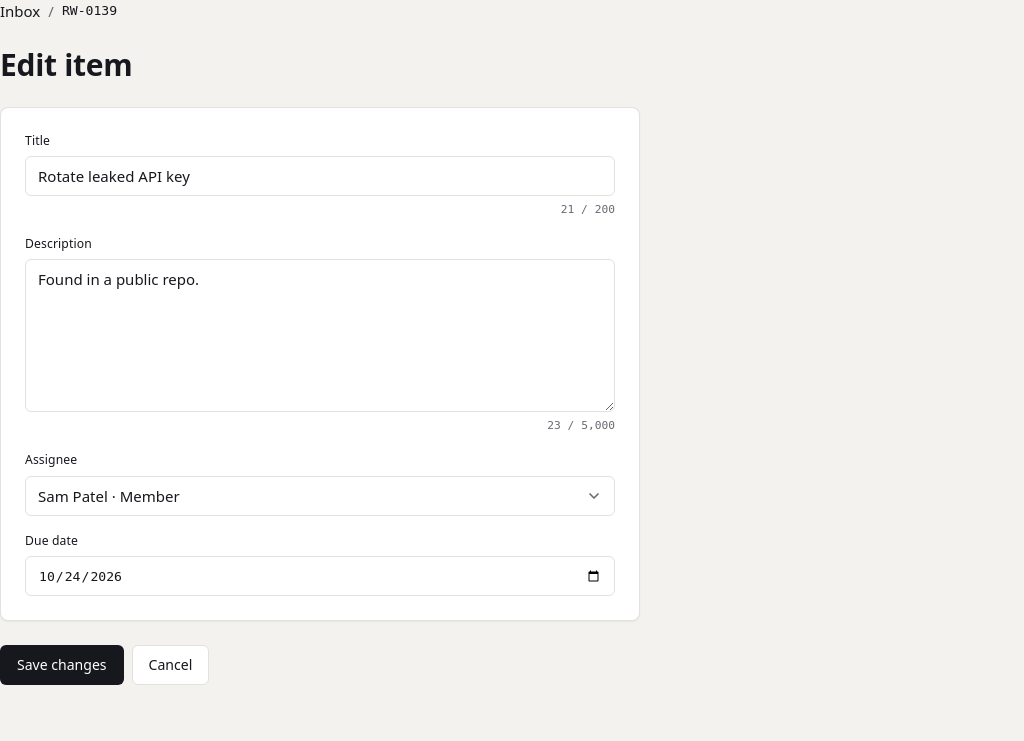
Test: item form › "Reload latest" asks before replacing typed changes, and keeps them on cancel
Replace the text in the field labelled "Title" with "My edit" at (320, 176), box [25,156,615,196]
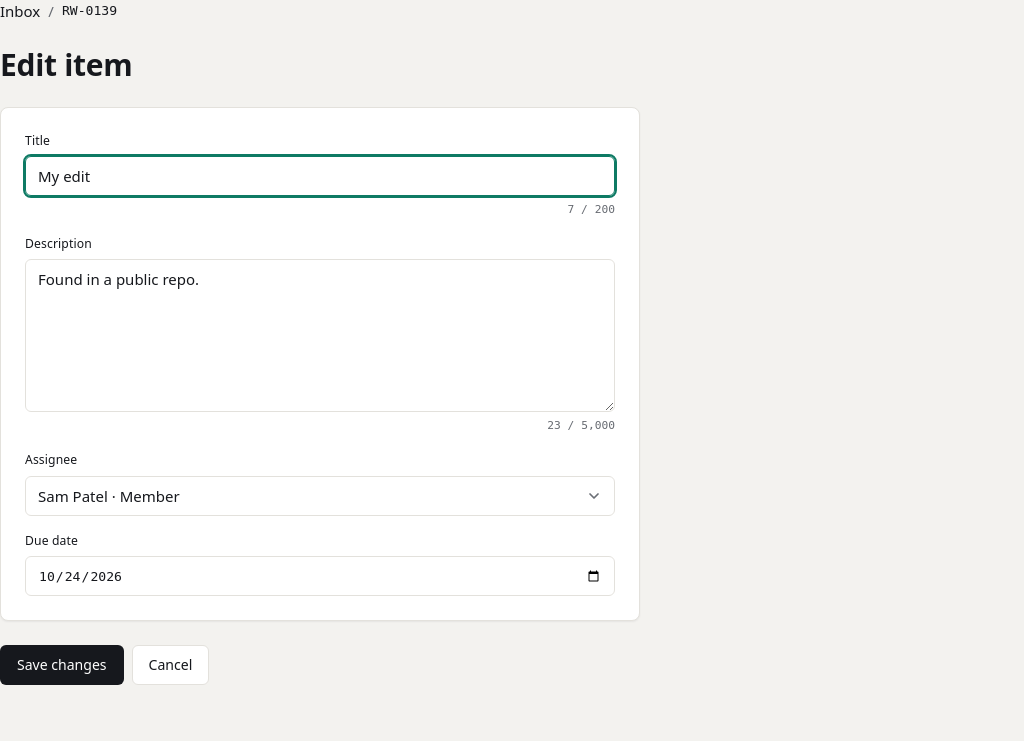
Click the button "Save changes".
click(62, 665)  # box [0,645,124,685]
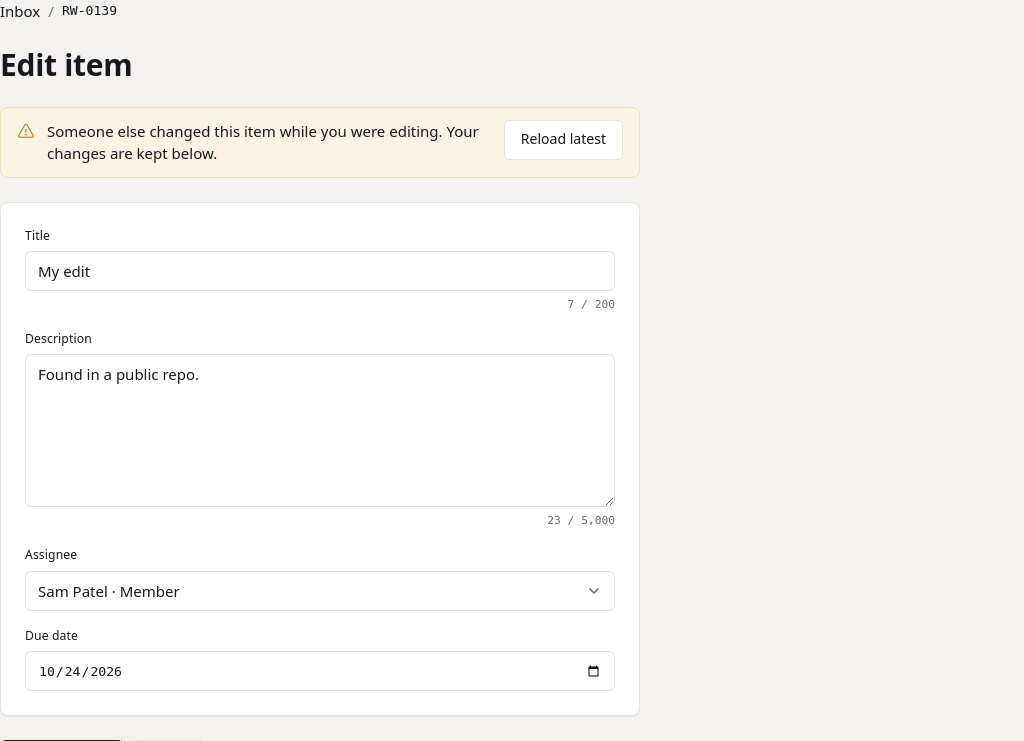
Click the button "Reload latest".
click(563, 140)  # box [504,120,623,160]
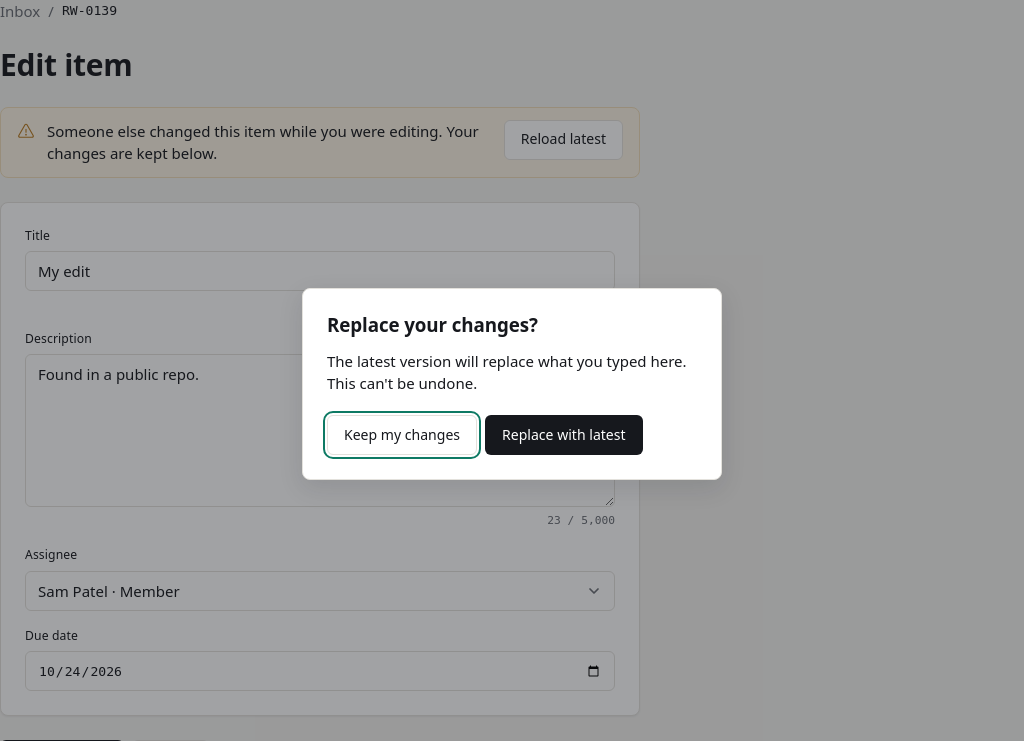
Click the button "Keep my changes".
click(402, 435)  # box [327,415,477,455]
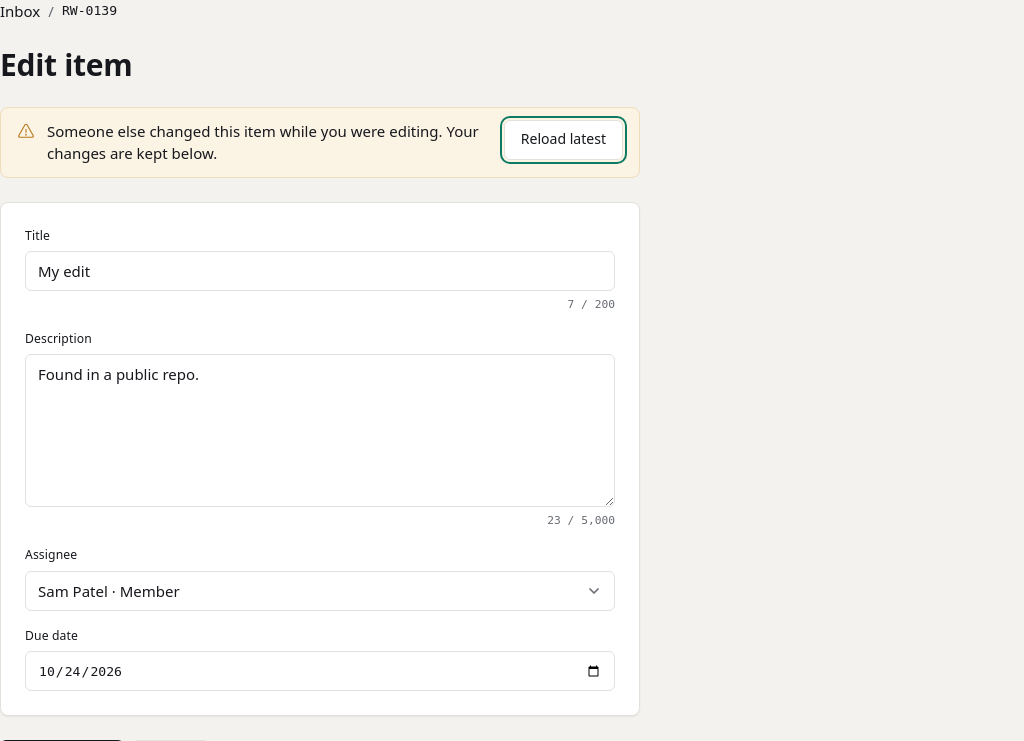
Expected: the heading "Replace your changes?" is gone
Click the button "Reload latest".
click(563, 140)  # box [504,120,623,160]
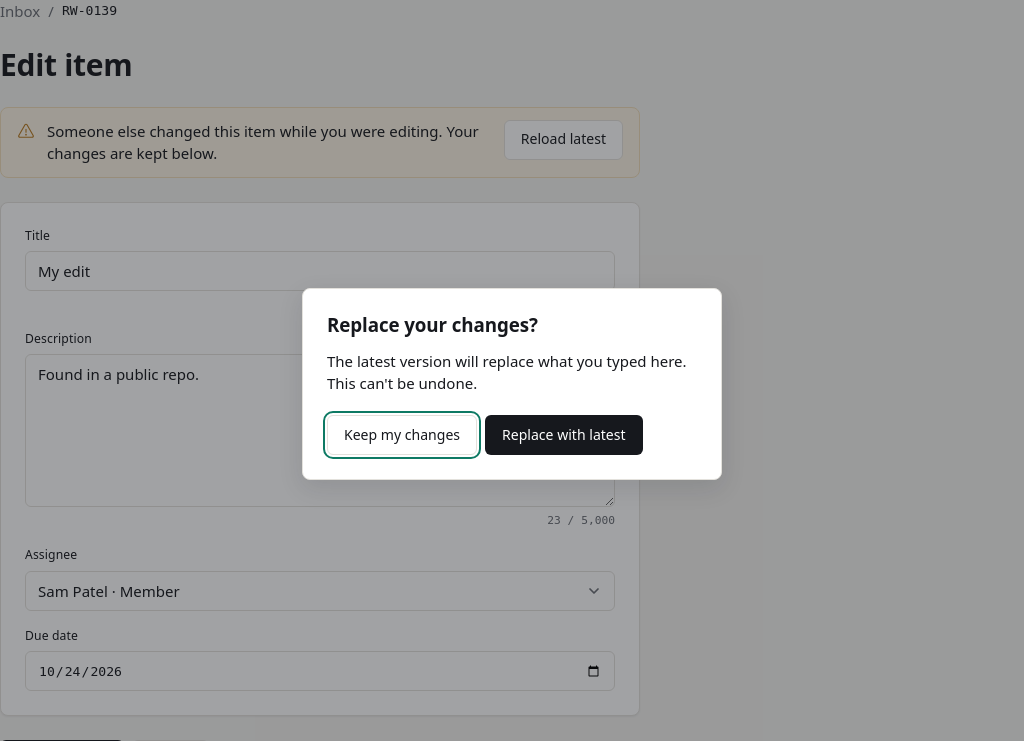
Click the button "Replace with latest".
click(564, 435)  # box [485,415,643,455]
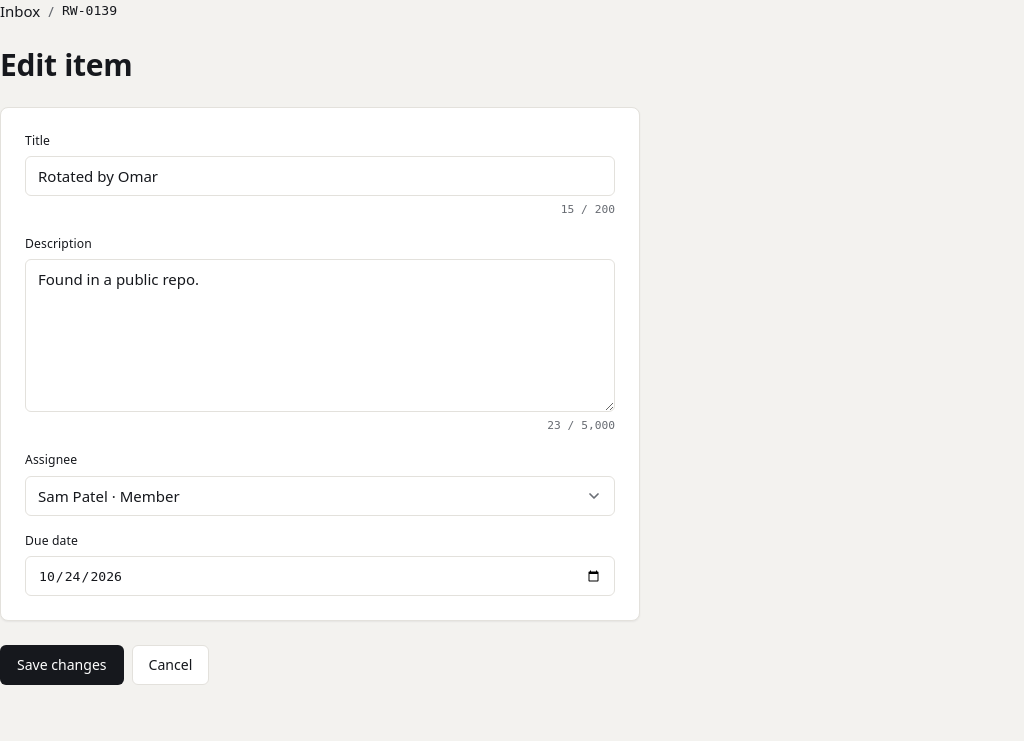
Expected: the field labelled "Title" holds "Rotated by Omar", [25,156,615,196]
